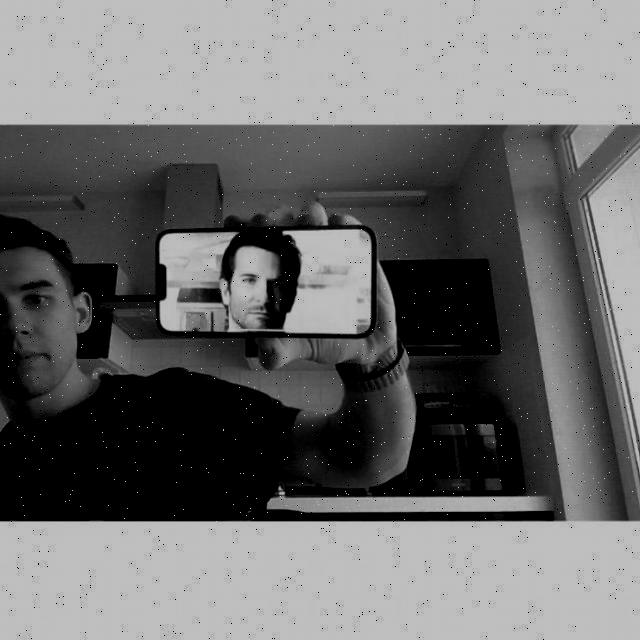fake: (150, 221, 388, 344)
real: (0, 255, 80, 399)
